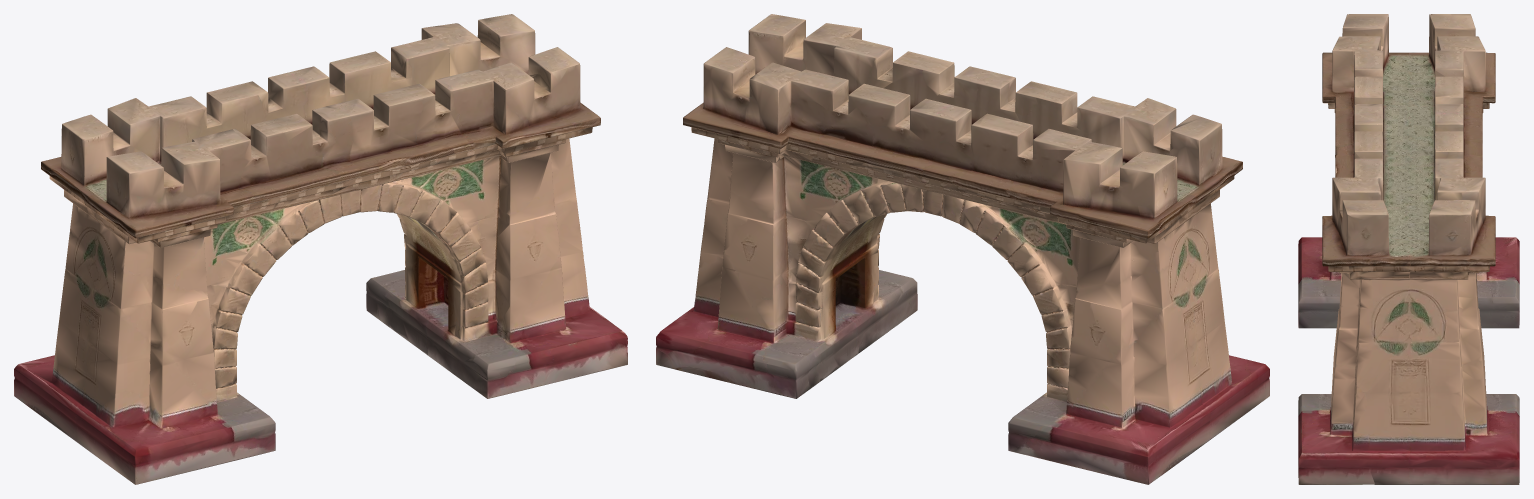
The model's file is Meshy_AI_A_stone_bridge_A_lon_0808145825_texture.glb.
The picture shows the model from 3 angles, left to right: view 1: azimuth 30°, elevation 25°; view 2: azimuth 150°, elevation 25°; view 3: azimuth 270°, elevation 25°; orthographic projection. The views are drawn at different scales.
Parts seen in each view (by area): view 1: mesh_node; view 2: mesh_node; view 3: mesh_node.
Boxes of the visible parts, x1=… form: mesh_node: x1=14, y1=14, x2=627, y2=484; mesh_node: x1=656, y1=14, x2=1269, y2=484; mesh_node: x1=1298, y1=14, x2=1519, y2=484.
Bounding box in the file's own units: 1.9 × 1.06 × 0.8108.
Materials: 1 (1 with a texture image).
